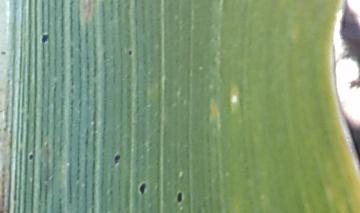tarspot: (136, 179, 148, 197), (39, 31, 50, 46), (110, 151, 120, 167), (175, 190, 185, 204), (26, 150, 36, 163), (126, 48, 135, 57), (1, 49, 8, 56)
